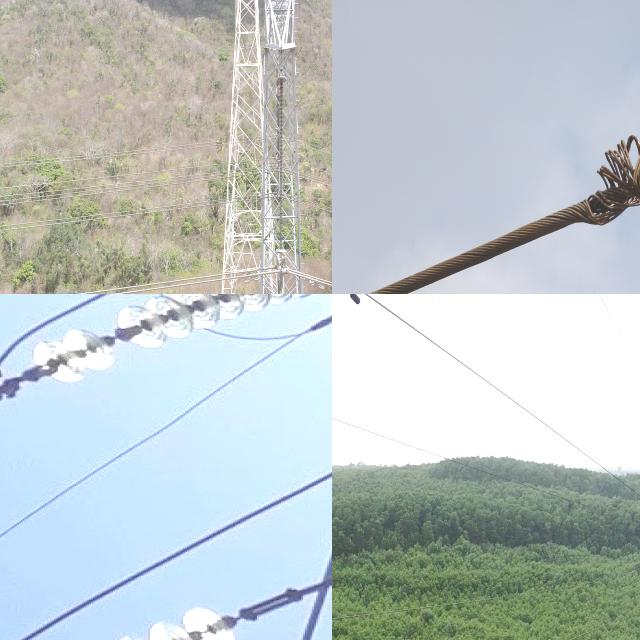杆塔: (214, 0, 300, 294), (255, 0, 312, 294)
正常电缆: (355, 294, 640, 504), (332, 410, 640, 532), (420, 294, 526, 383), (590, 294, 640, 389)
正常绝缘子: (0, 294, 332, 406), (269, 65, 292, 258)
电缆破损: (514, 122, 640, 264)
绝缘子破损: (105, 320, 132, 348)
